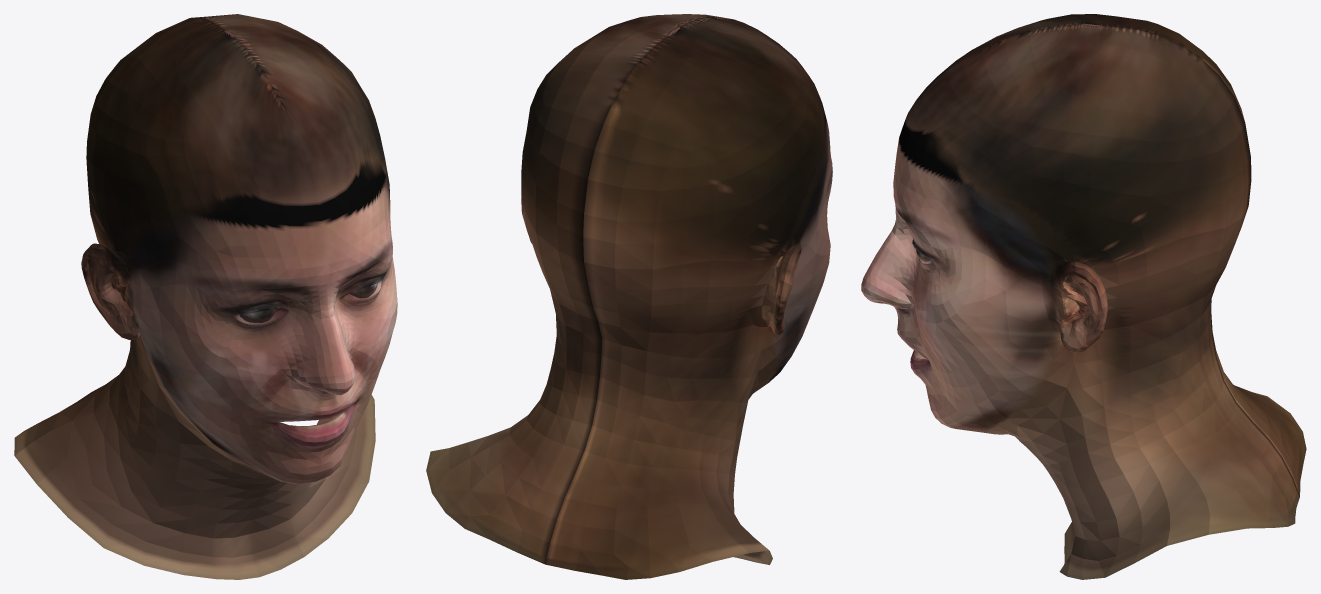
Rendered from face_video_frame0688.obj.
3 renders of one model, left to right at view 1: azimuth 30°, elevation 25°; view 2: azimuth 150°, elevation 25°; view 3: azimuth 270°, elevation 25°, orthographic.
Size of the model in its own units: 0.2115 by 0.3271 by 0.2482.
Materials: 1 (1 with a texture image).
